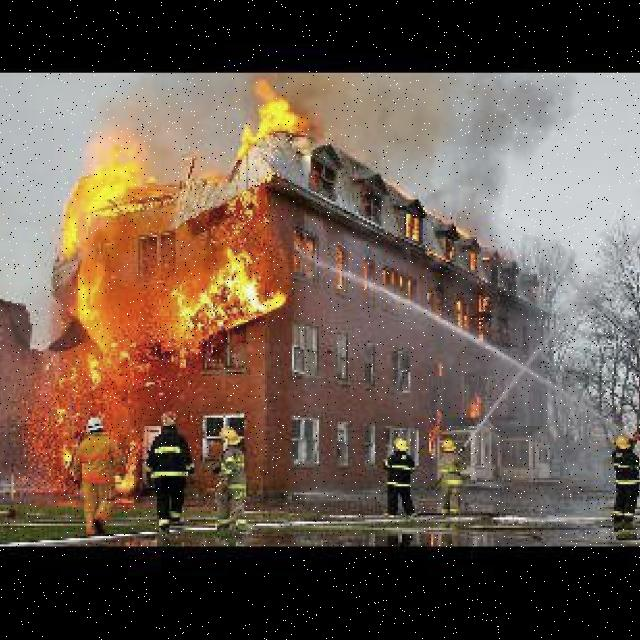fire: (24, 249, 306, 401), (46, 140, 178, 250), (236, 73, 321, 162), (26, 403, 84, 480), (423, 391, 487, 455), (116, 407, 144, 497), (461, 282, 494, 336), (394, 210, 433, 243), (332, 243, 350, 297), (381, 276, 417, 298)
smoke: (323, 75, 589, 237)
